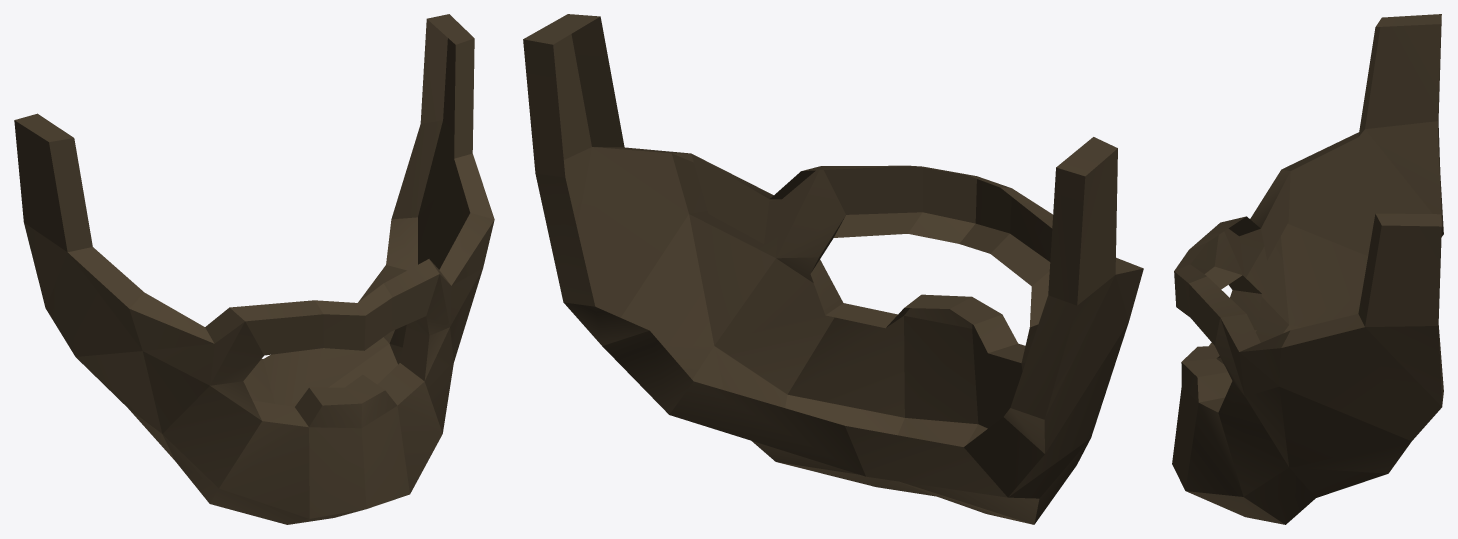
Rendered from Beard_03_SM.FBX.
The picture shows the model from 3 angles, left to right: view 1: azimuth 30°, elevation 25°; view 2: azimuth 150°, elevation 25°; view 3: azimuth 270°, elevation 25°; orthographic projection. The views are drawn at different scales.
Visible parts, largest first — view 1: Beard_03_SM; view 2: Beard_03_SM; view 3: Beard_03_SM.
Boxes of the visible parts, x1,y1,x2,y2 form: Beard_03_SM: [14, 14, 494, 524]; Beard_03_SM: [523, 14, 1143, 524]; Beard_03_SM: [1172, 14, 1443, 524].
Size of what is drawn, in the model's own units: 19.66 by 10.63 by 16.28.
